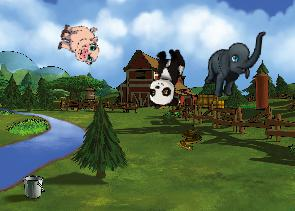elephant: (203, 26, 266, 101)
panda: (146, 45, 186, 109)
pig: (54, 19, 104, 67)
